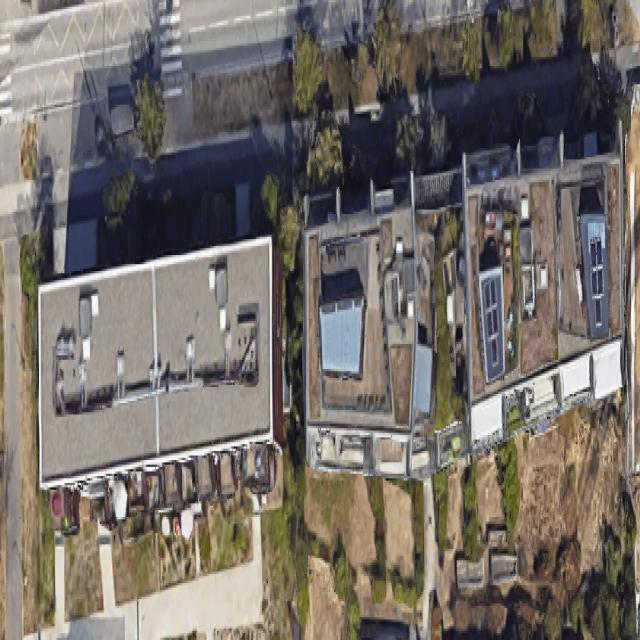immeuble: (299, 125, 629, 482), (4, 236, 322, 535)
